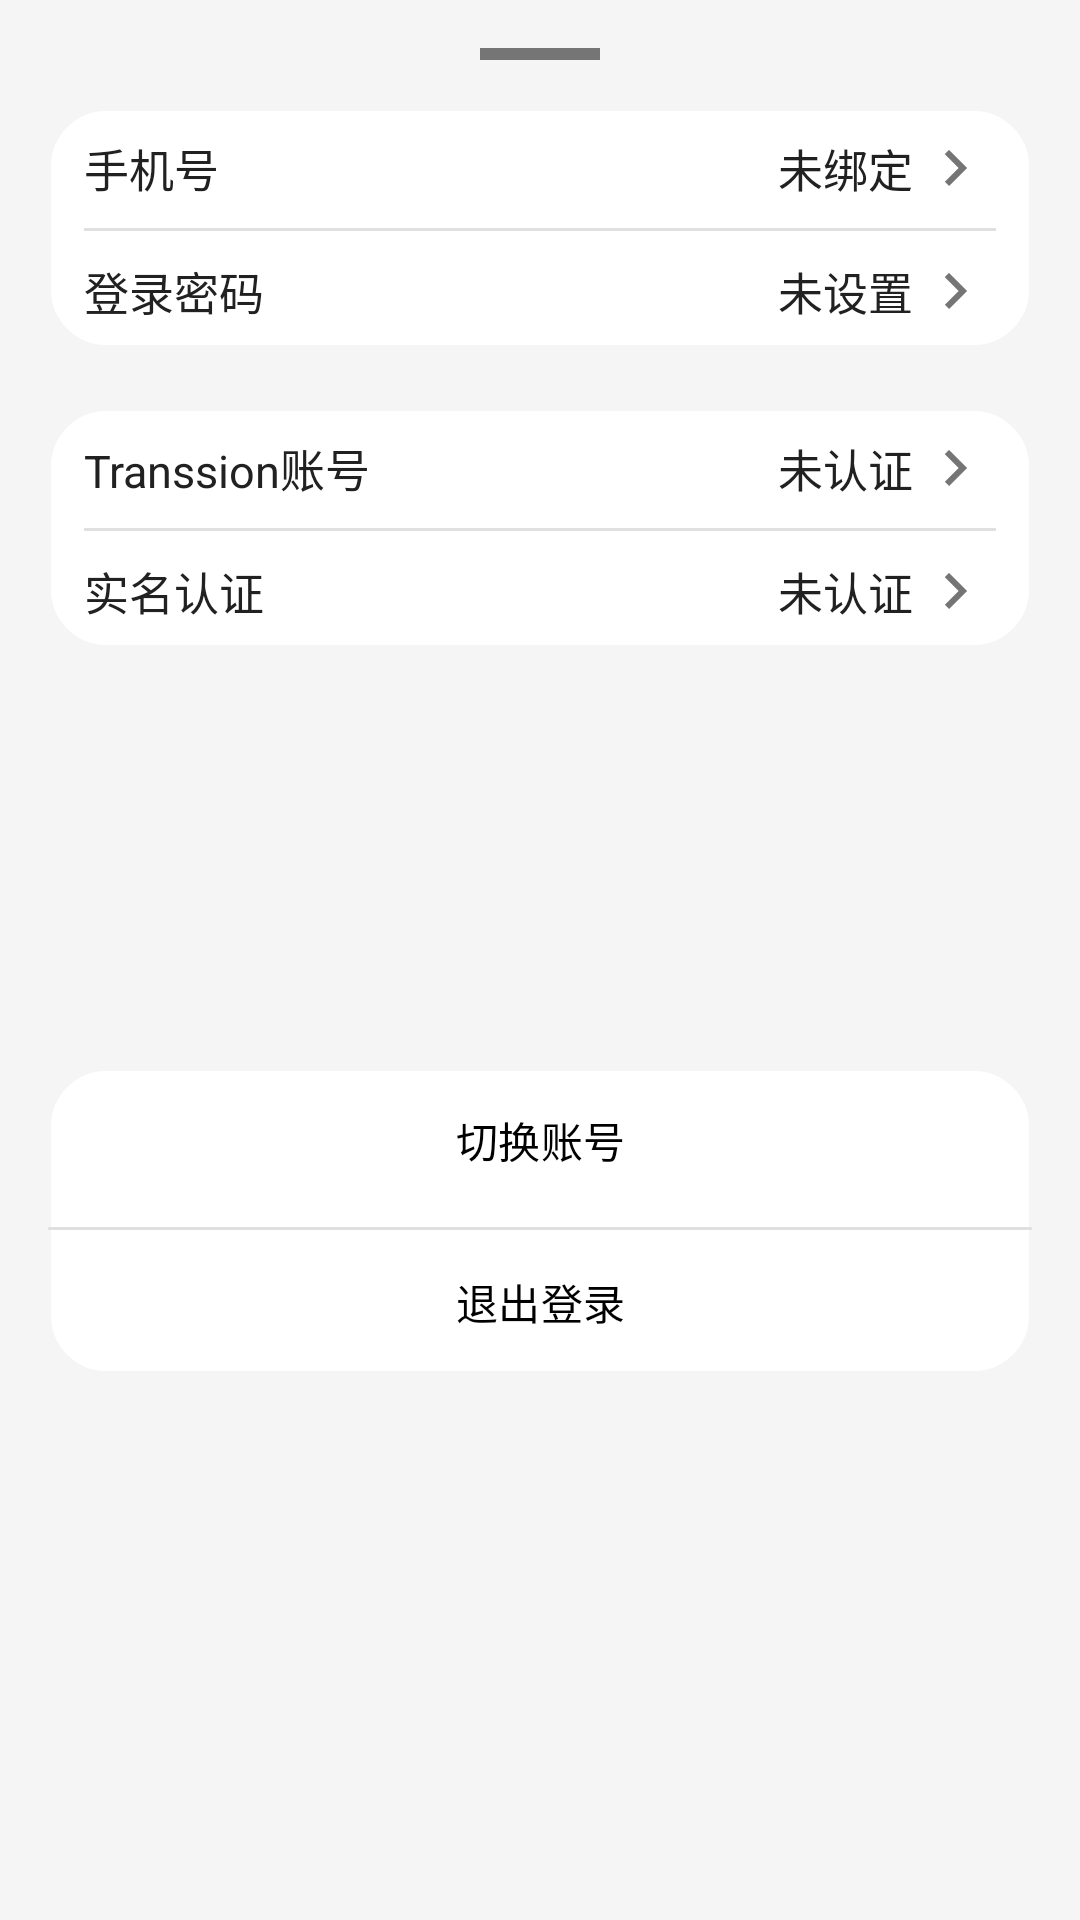

Locate icon controls on the screen. Image size 1080w x 1920h, boxes as [x1, y1, x2, y2].
arrow right: [945, 150, 967, 186], [945, 273, 967, 309], [945, 450, 967, 486], [945, 573, 967, 609]
